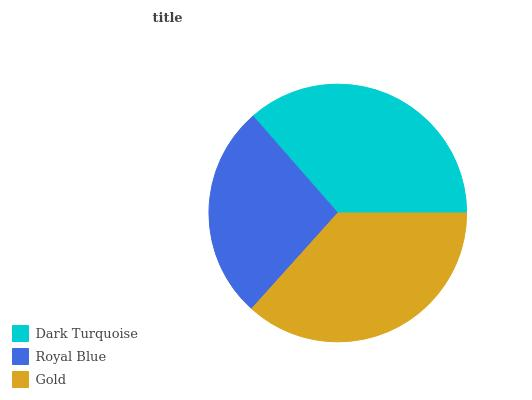legend: (0, 319, 147, 399)
sector: (253, 82, 467, 213), (251, 213, 466, 343), (208, 116, 337, 308)
